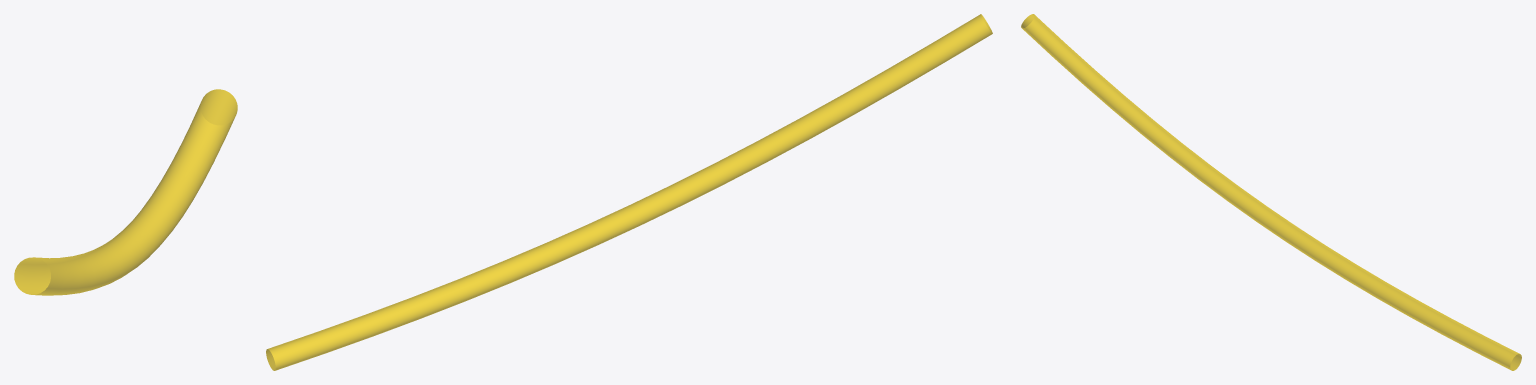
File: Event_100608114_track_6.fbx
The picture shows the model from 3 angles, left to right: view 1: azimuth 30°, elevation 25°; view 2: azimuth 150°, elevation 25°; view 3: azimuth 270°, elevation 25°; orthographic projection. The views are drawn at different scales.
Parts seen in each view (by area): view 1: Model; view 2: Model; view 3: Model.
Part boxes in pixels (x1=…): Model: x1=14, y1=89, x2=237, y2=295; Model: x1=266, y1=14, x2=992, y2=370; Model: x1=1021, y1=14, x2=1521, y2=370.
Size of the model in its own units: 0.8596 by 0.4518 by 1.06.
